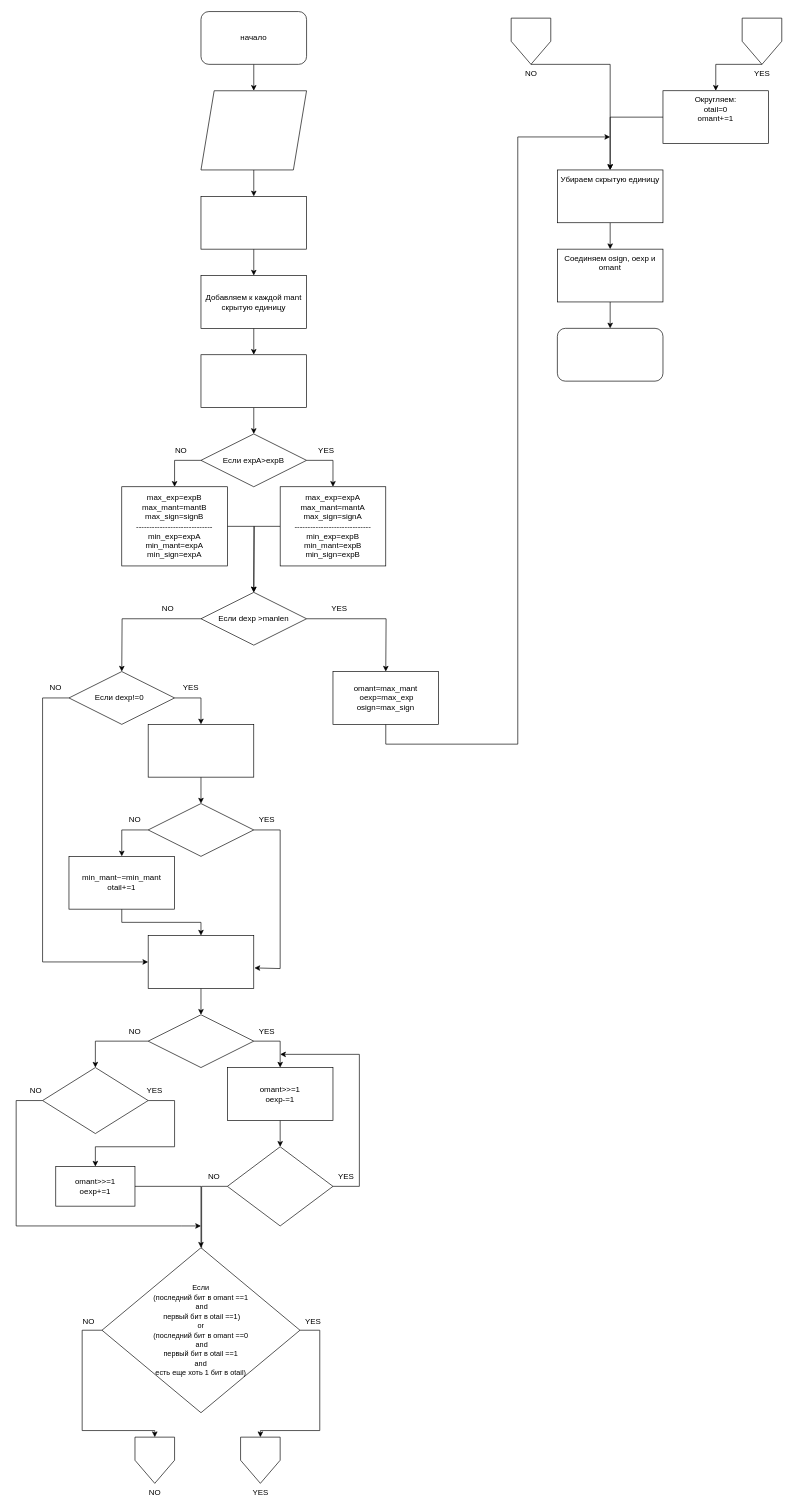
This 793x1509 diagram has some shape labels left out. The centre of each missing label's shape, as x and y in pixels:
A, B manlen,dexp, oexp,omant, osign,max_exp min_exp,otv, tailA,tailB, otail: (253,130)
dexp=|expA-expB|: (253,381)
min_mant>>=dexp биты которые были сдвинуты попадают в tail(A или B) oexp=max_exp: (201,750)
oexp>0 or omant != нормализ.: (280,1186)
omant=min_mant+max_mant otail+=tailA+tailB: (201,961)
signA==signB: (201,829)
Если mant денормализованное: (201,1041)
Если есть лишняя единица слева: (95,1100)
Конец: (610,354)
Разделяем числа на expA,mantA,signA и expB,mantB,signB: (253,222)
